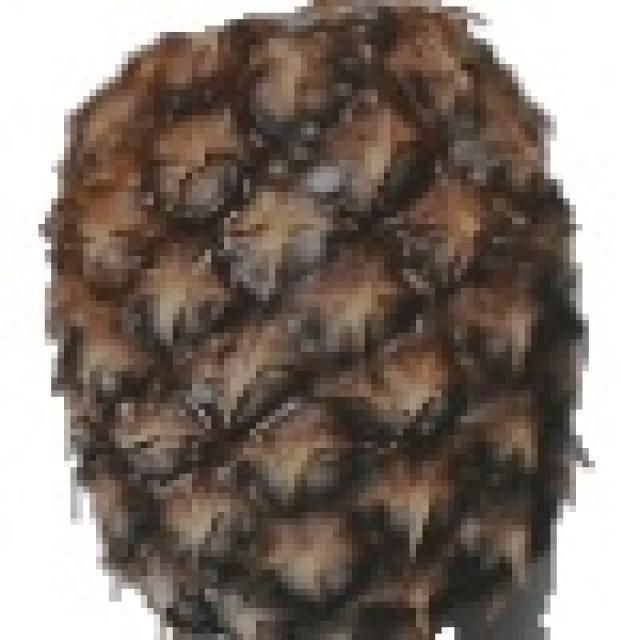pineapple: (45, 0, 582, 640)
